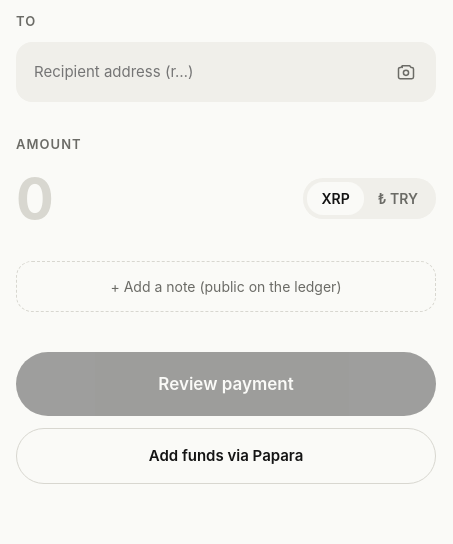
SendFlow › scan with a bare address fills only the recipient
The width and height of the screenshot is (453, 544).
Click the button named "Scan a QR code": (406, 72) [388, 54, 424, 90]
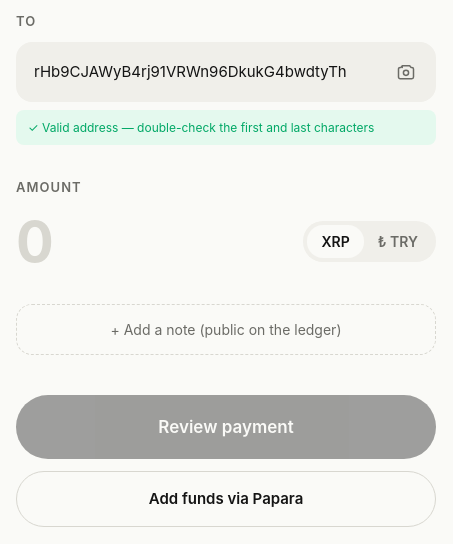
Now the field with placeholder "Recipient address (r…)" holds "rHb9CJAWyB4rj91VRWn96DkukG4bwdtyTh", box [34, 62, 380, 81]
